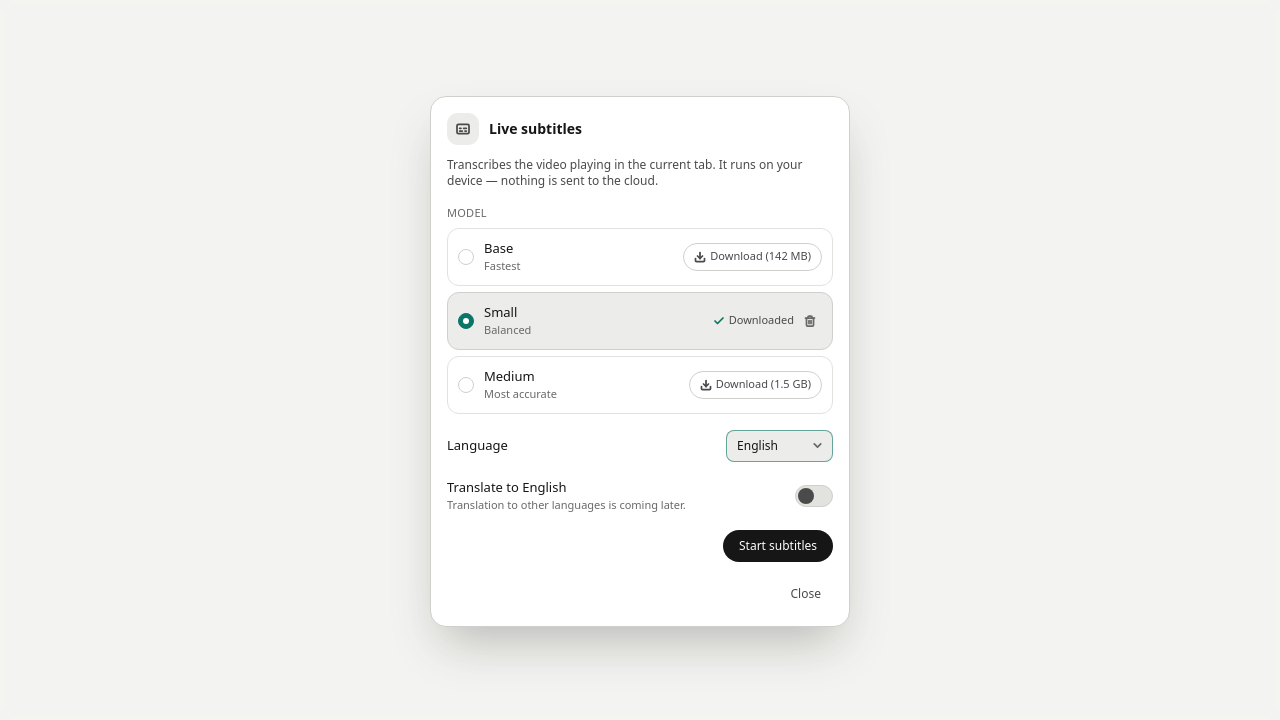
Test: Subtitles dialog › selects a downloaded model on load and disables Start for one that is not
Expected: the text "Base" is shown, [484,238,513,256]
Expected: the button "Start subtitles" is enabled, [723,530,833,562]
Click the radio button named "Use Base". click: (466,256)
box: [458,248,474,264]
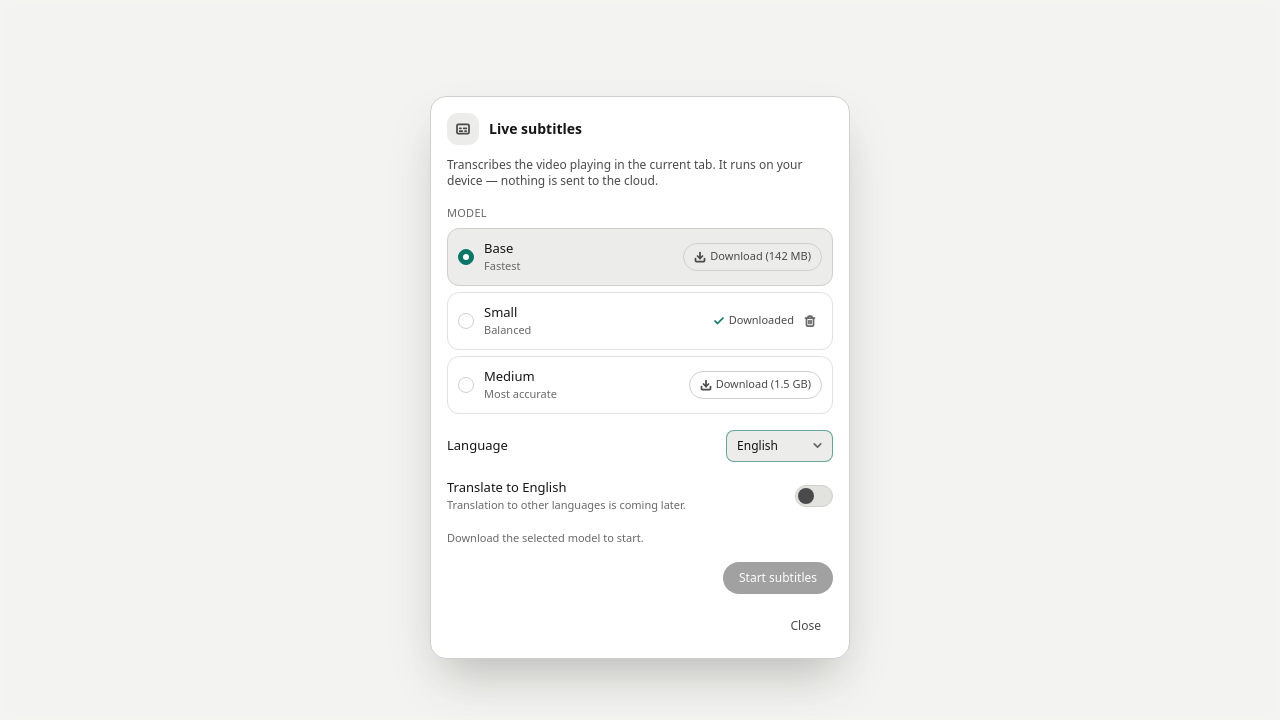
Expected: the button "Start subtitles" is disabled, [723,562,833,594]
Click the radio button named "Use Small". click: (466,320)
box: [458,312,474,328]
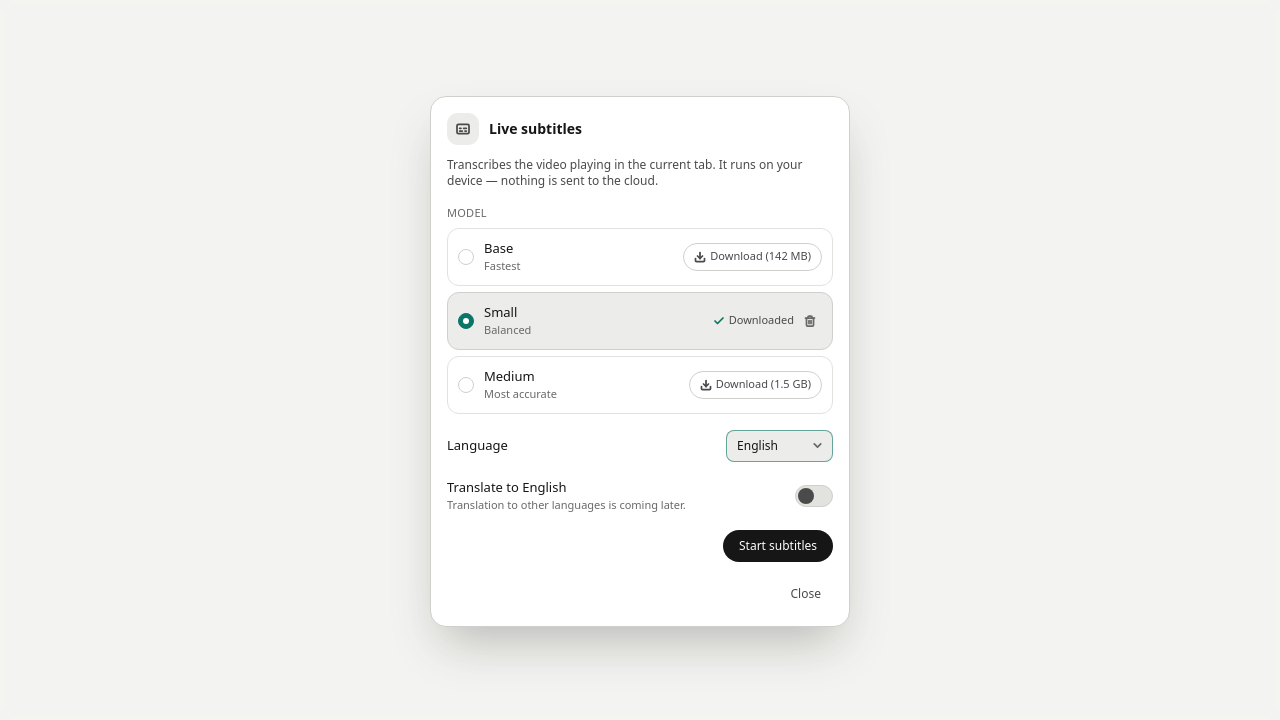
Expected: the button "Start subtitles" is enabled, [723,530,833,562]
